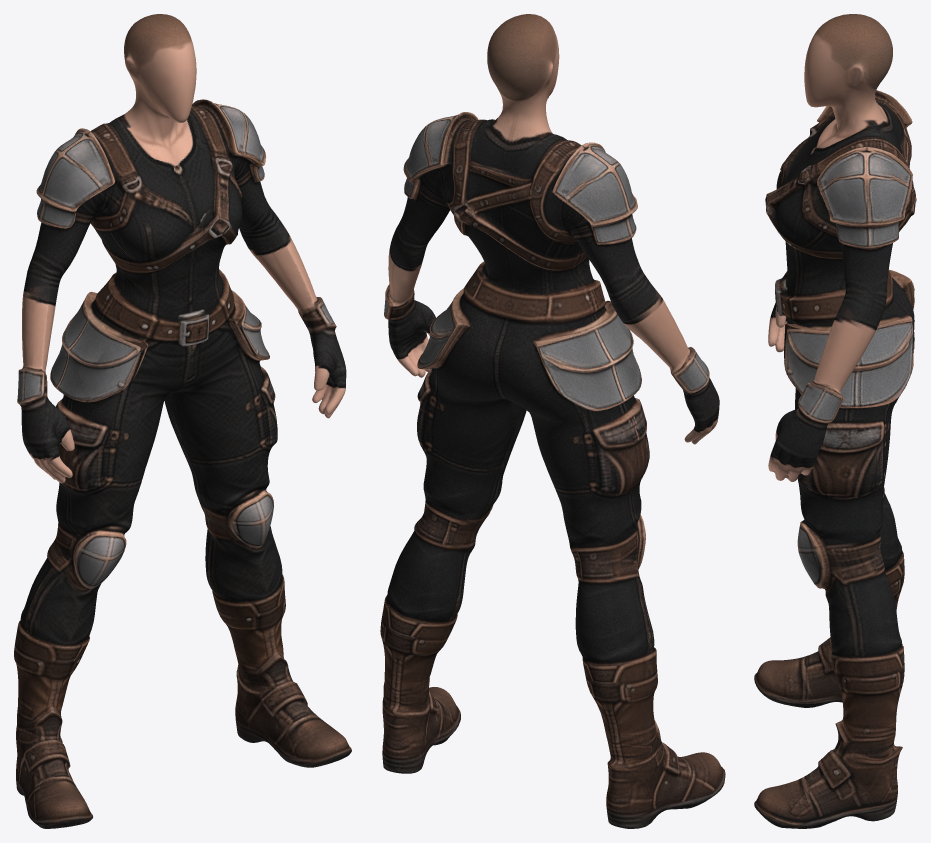
Rendered from Corpo_Feminino_Robusto.glb.
3 renders of one model, left to right at view 1: azimuth 30°, elevation 25°; view 2: azimuth 150°, elevation 25°; view 3: azimuth 270°, elevation 25°, orthographic. The views are drawn at different scales.
Size of the model in its own units: 0.8328 by 1.9 by 0.3759.
Materials: 1 (1 with a texture image).
